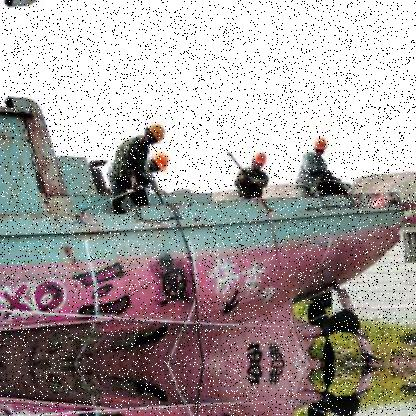Helmet: (146, 147, 176, 178), (139, 117, 168, 146), (306, 129, 332, 161), (252, 150, 274, 176)
